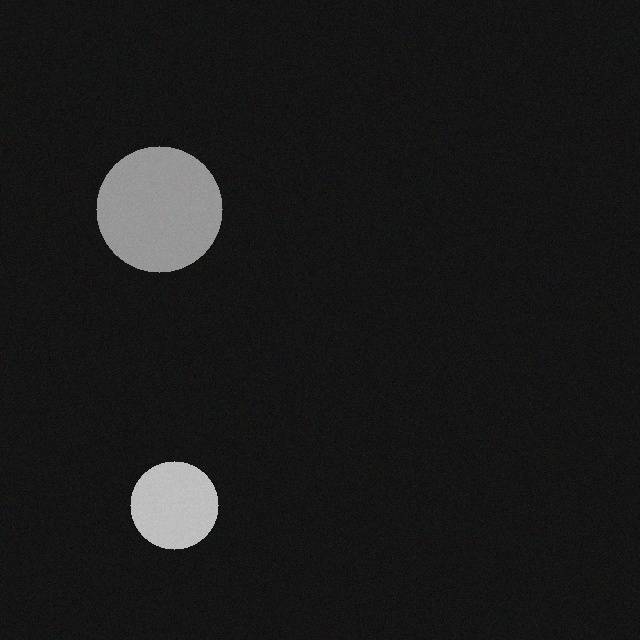circle: (88, 140, 214, 266), (122, 455, 210, 543)
